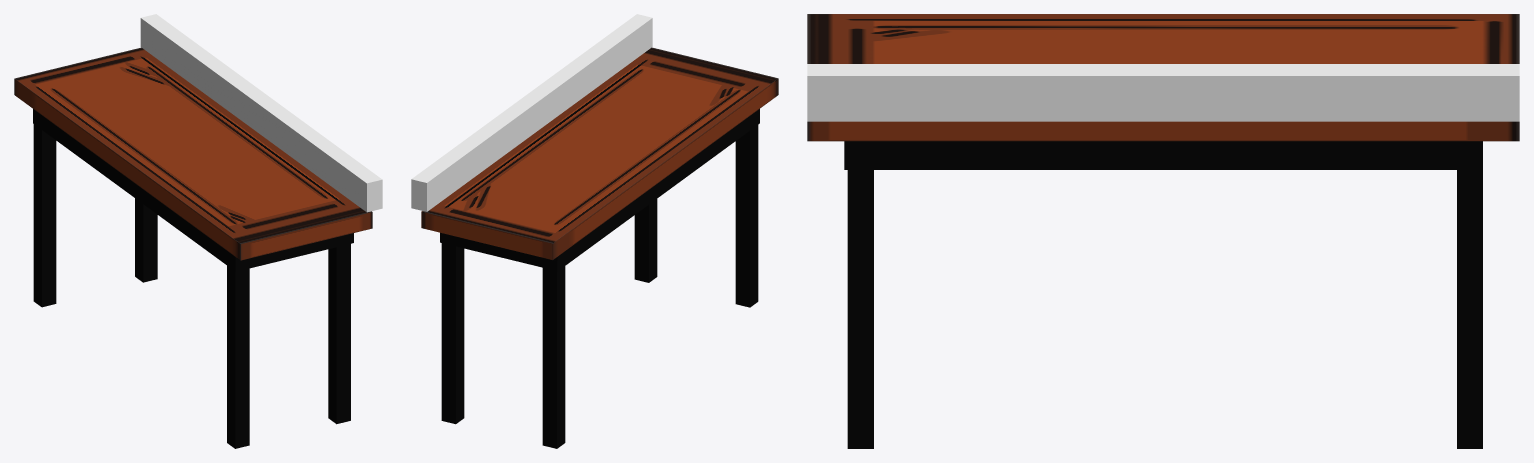
File: mesas3.fbx
3 renders of one model, left to right at view 1: azimuth 30°, elevation 25°; view 2: azimuth 150°, elevation 25°; view 3: azimuth 270°, elevation 25°, orthographic. The views are drawn at different scales.
Parts seen in each view (by area): view 1: pCube1, pCube8, pCube3; view 2: pCube1, pCube8, pCube3; view 3: pCube1, pCube3, pCube8.
Boxes of the visible parts, box(x1,y1,x2,y2) form: pCube1: box(14, 47, 372, 260); pCube8: box(33, 109, 353, 448); pCube3: box(140, 14, 382, 212); pCube1: box(421, 47, 778, 259); pCube8: box(440, 109, 759, 448); pCube3: box(411, 14, 652, 211); pCube1: box(807, 14, 1519, 141); pCube3: box(807, 64, 1519, 121); pCube8: box(844, 141, 1482, 448).
Bounding box in the file's own units: 1.75 × 2.91 × 4.84.
